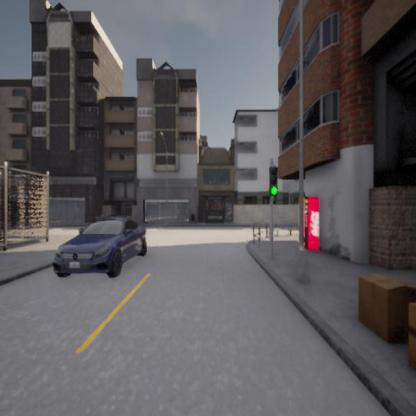traffic_light_green: (268, 166, 278, 194)
vehicle: (52, 217, 148, 277)
